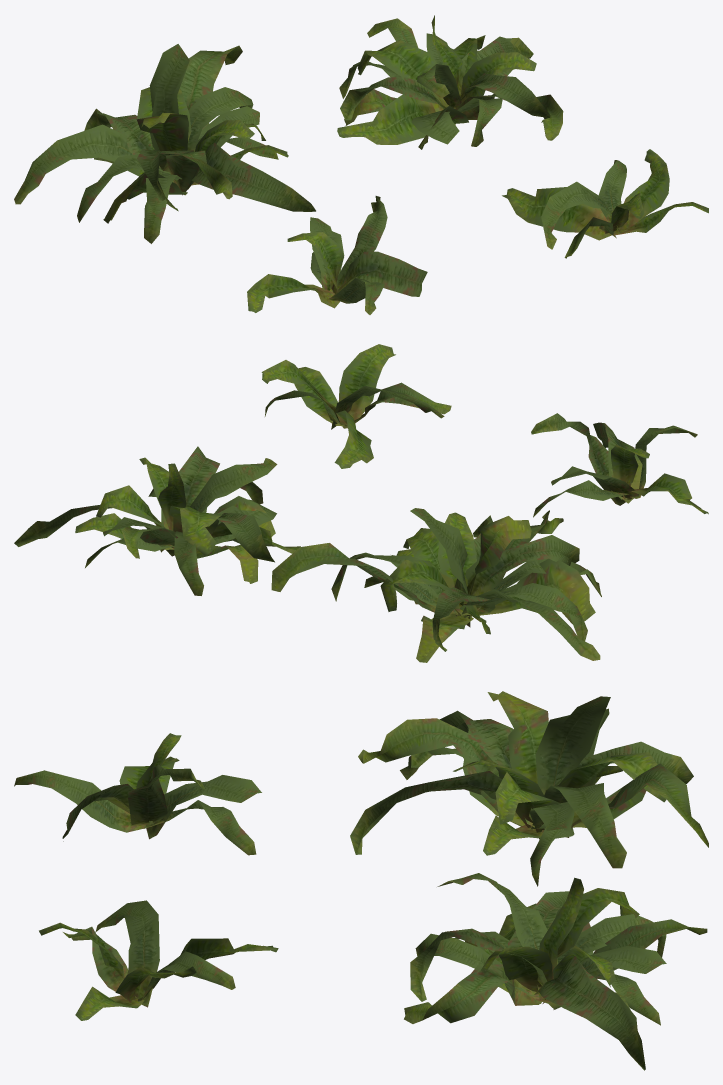
Rendered from fern.glb.
The picture shows the model from 3 angles, top to bottom: view 1: azimuth 30°, elevation 25°; view 2: azimuth 150°, elevation 25°; view 3: azimuth 270°, elevation 25°; orthographic projection. The views are drawn at different scales.
Visible parts, largest first — view 1: fern_02_b; view 2: fern_02_b; view 3: fern_02_b.
Part boxes in pixels (x1,y1,x2,y2): fern_02_b: (14, 15, 708, 314); fern_02_b: (14, 344, 708, 662); fern_02_b: (14, 691, 708, 1070).
Size of the model in its own units: 1.97 by 0.4276 by 1.72.
Materials: 1 (1 with a texture image).
